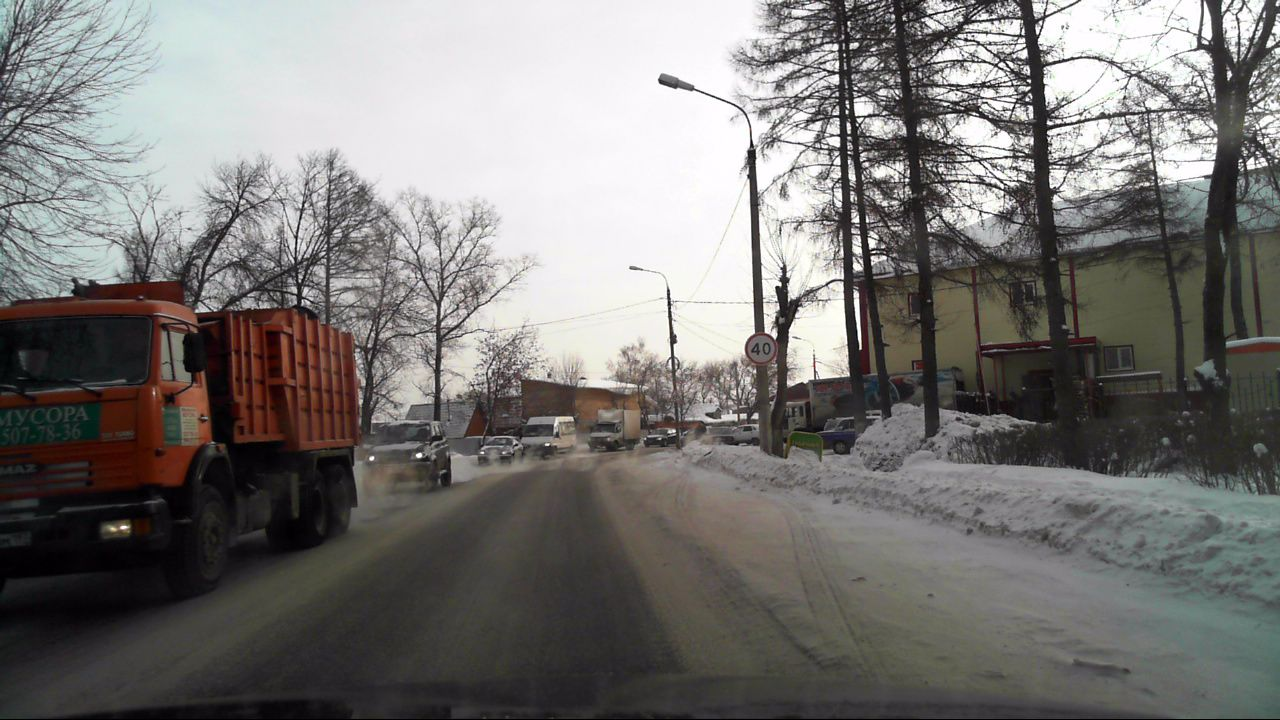speed_warning_40: (745, 332, 776, 365)
